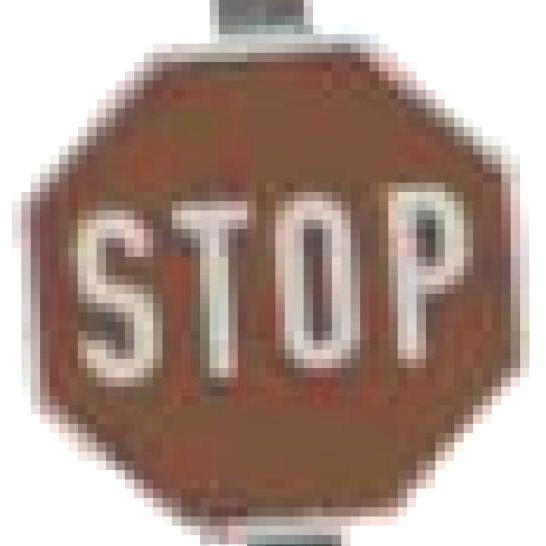stop_sign: (17, 30, 524, 540)
